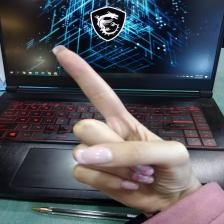one: (46, 44, 200, 208)
